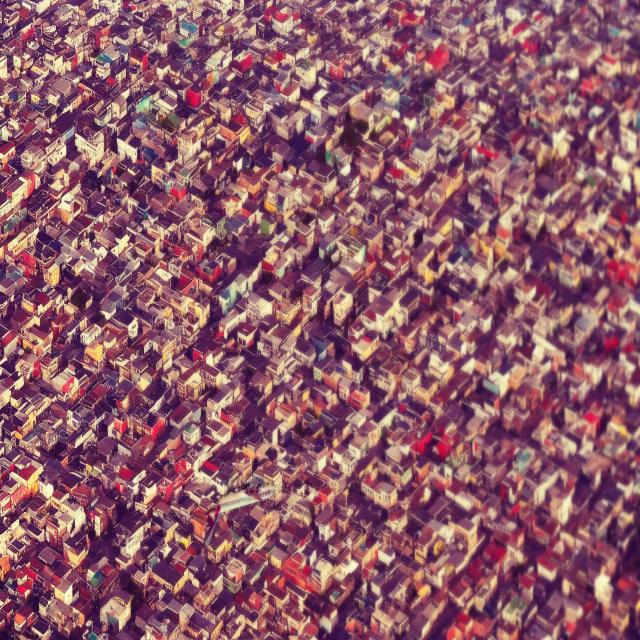airplane: (204, 484, 276, 547)
